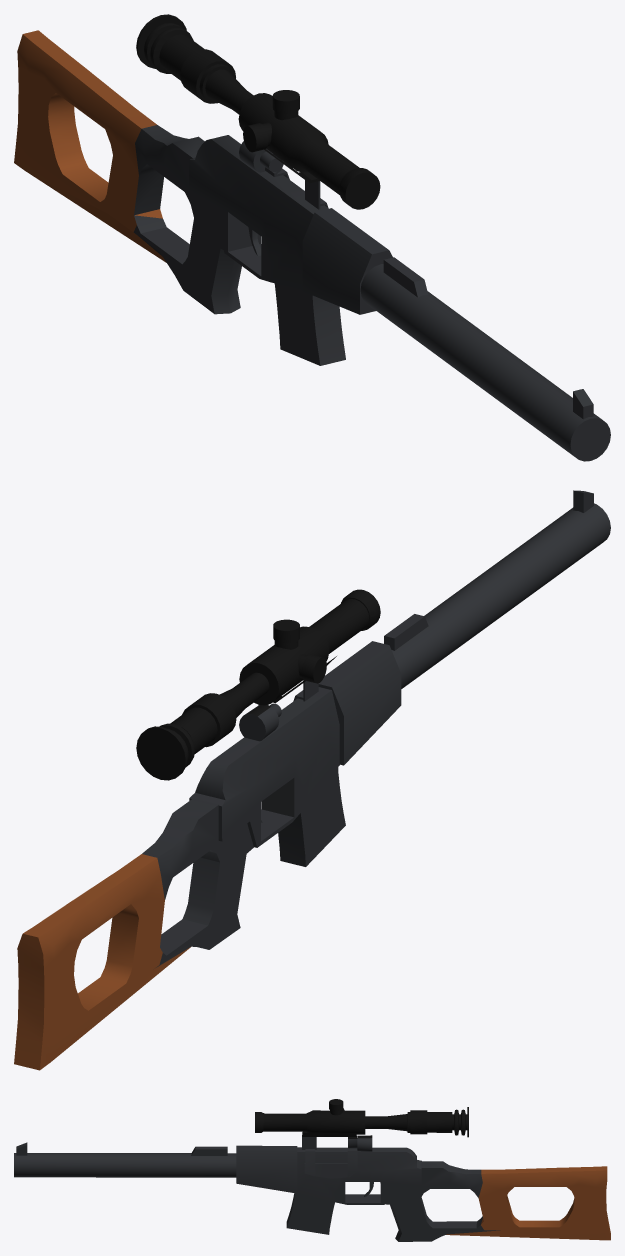
Rendered from gun_vss.glb.
3 views of the same model, one above another, from view 1: azimuth 30°, elevation 25°; view 2: azimuth 150°, elevation 25°; view 3: azimuth 270°, elevation 25° (orthographic). The views are drawn at different scales.
Parts seen in each view (by area): view 1: steel, wood, black, mag; view 2: steel, wood, black, mag; view 3: steel, wood, black, mag.
Part boxes in pixels (left/top/right/bottom): steel: left=133, top=125, right=610, bottom=461; wood: left=14, top=30, right=166, bottom=262; black: left=136, top=14, right=380, bottom=209; mag: left=174, top=218, right=341, bottom=365; steel: left=142, top=490, right=610, bottom=967; wood: left=14, top=854, right=190, bottom=1070; black: left=136, top=589, right=380, bottom=780; mag: left=182, top=773, right=345, bottom=949; steel: left=14, top=1135, right=500, bottom=1236; wood: left=446, top=1166, right=610, bottom=1240; black: left=255, top=1099, right=468, bottom=1138; mag: left=287, top=1193, right=440, bottom=1241.
Bounding box in the file's own units: 0.0554 × 0.2256 × 0.8946.
